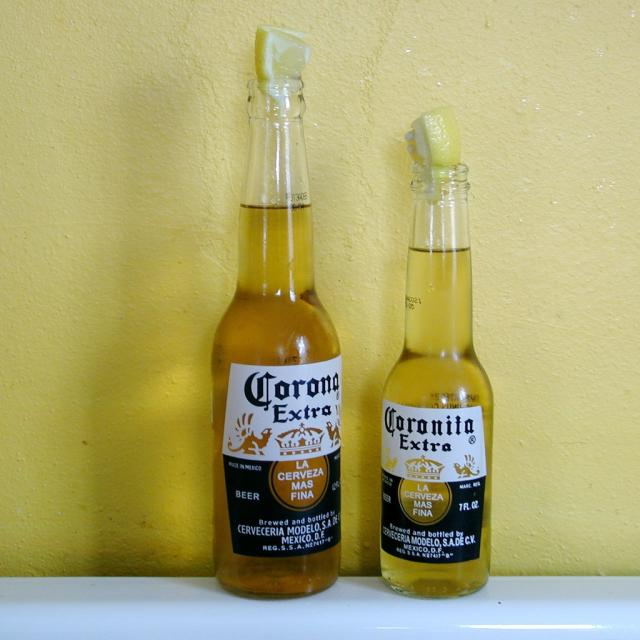corona: (222, 356, 343, 558), (381, 400, 489, 565)
